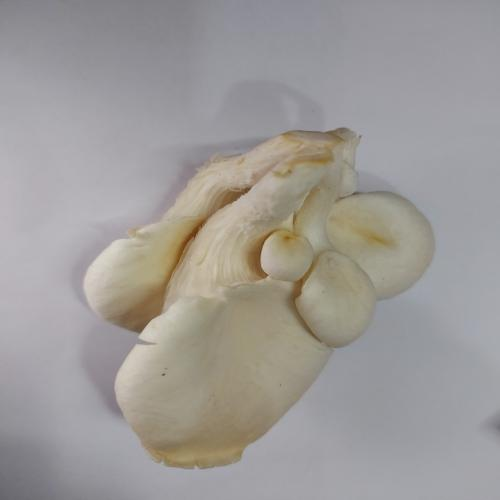Oyster Mushroom: (82, 126, 435, 470)
